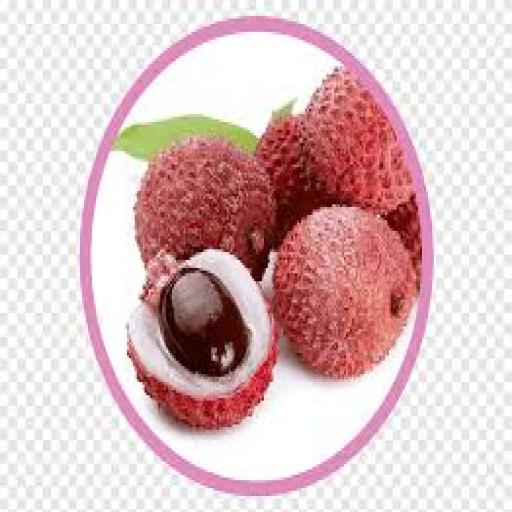lychee: (128, 250, 277, 429), (274, 207, 416, 379), (135, 138, 275, 278), (305, 69, 412, 212), (256, 115, 332, 246), (385, 194, 422, 286)
